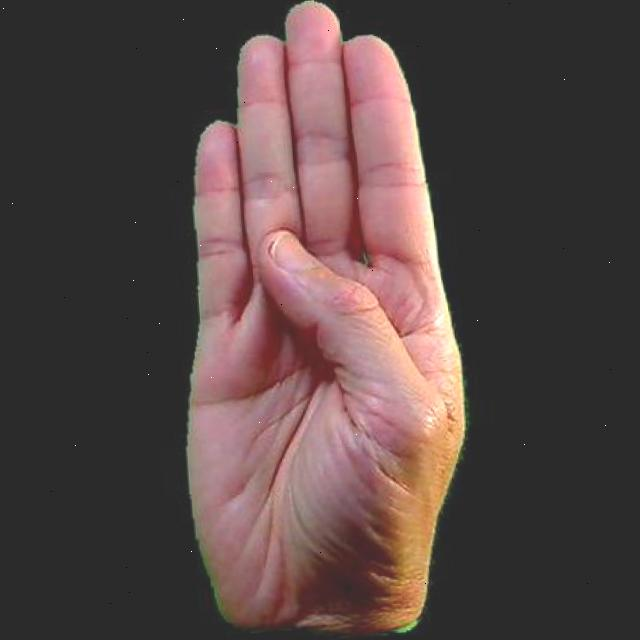b: (128, 0, 505, 640)
